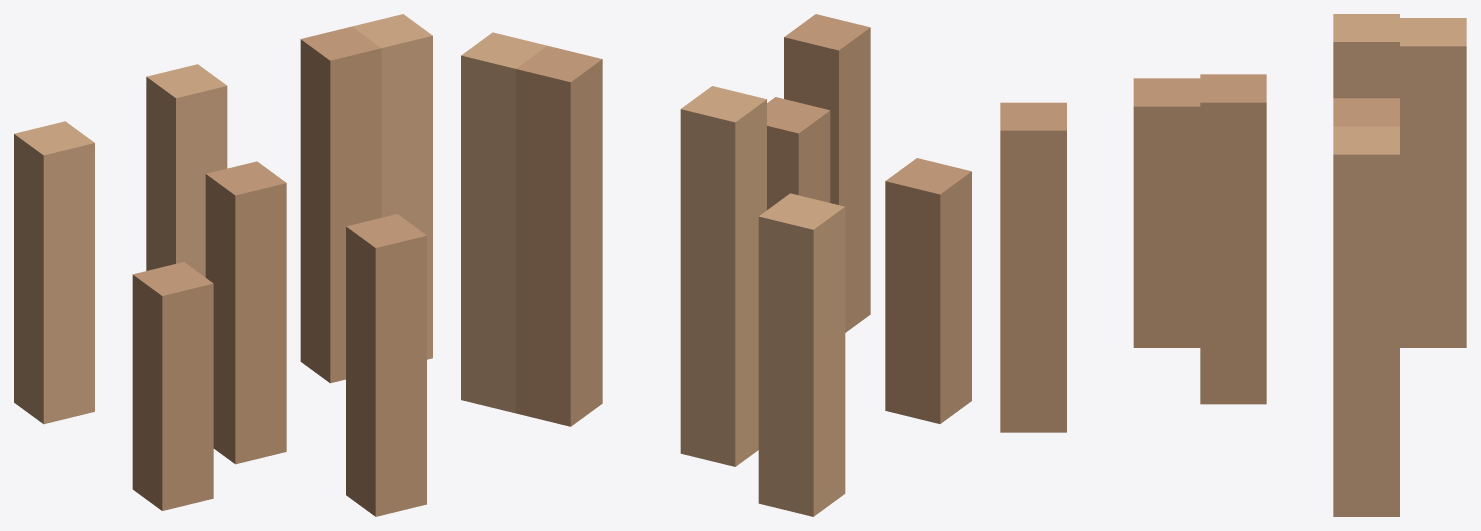
File: zanahoria_silvestre_04.glb
The picture shows the model from 3 angles, left to right: view 1: azimuth 30°, elevation 25°; view 2: azimuth 150°, elevation 25°; view 3: azimuth 270°, elevation 25°; orthographic projection. The views are drawn at different scales.
Parts seen in each view (by area): view 1: zanahoria_silvestre_04; view 2: zanahoria_silvestre_04; view 3: zanahoria_silvestre_04.
Boxes of the visible parts, x1,y1,x2,y2 form: zanahoria_silvestre_04: (14, 14, 432, 516); zanahoria_silvestre_04: (461, 14, 971, 516); zanahoria_silvestre_04: (1000, 14, 1466, 516).
Bounding box in the file's own units: 0.7 × 0.6 × 0.7.
